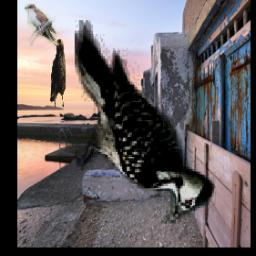Crow: (51, 39, 67, 108)
Cuckoo: (26, 4, 63, 56)
Woodpecker: (76, 20, 217, 224)
